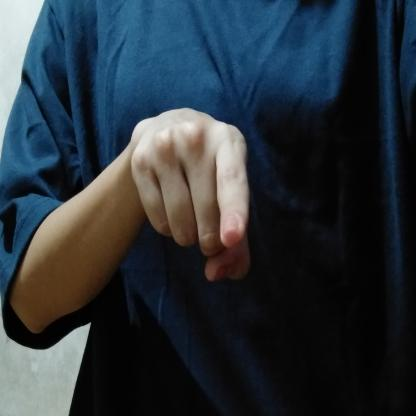you: (123, 104, 268, 299)
